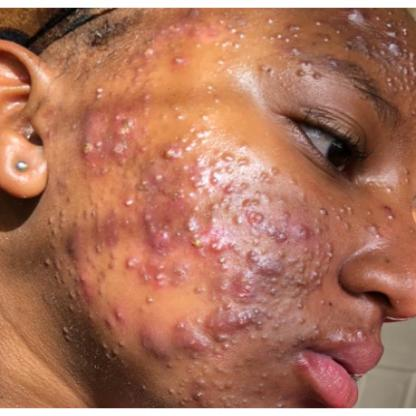Acne: (209, 164, 320, 305), (116, 114, 134, 138), (238, 310, 256, 327), (148, 169, 167, 185), (111, 140, 129, 156), (189, 234, 206, 250), (122, 257, 140, 272), (79, 139, 95, 155), (163, 144, 179, 160), (185, 216, 199, 233), (124, 198, 136, 209)
